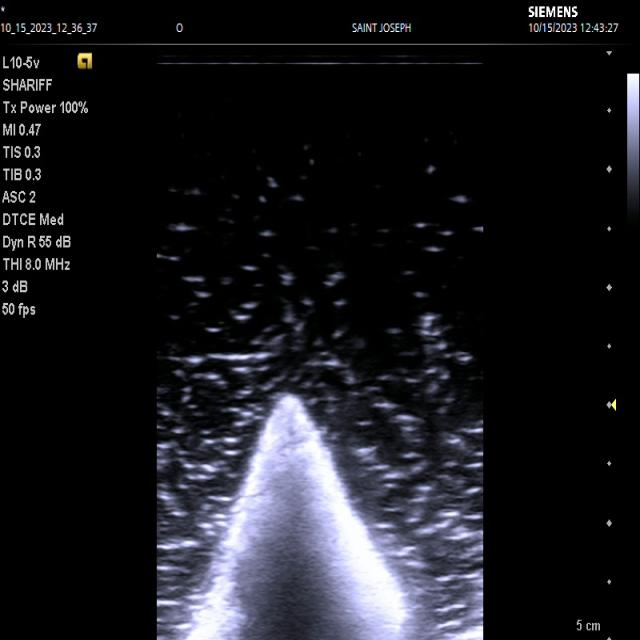tissue: (182, 393, 413, 640)
